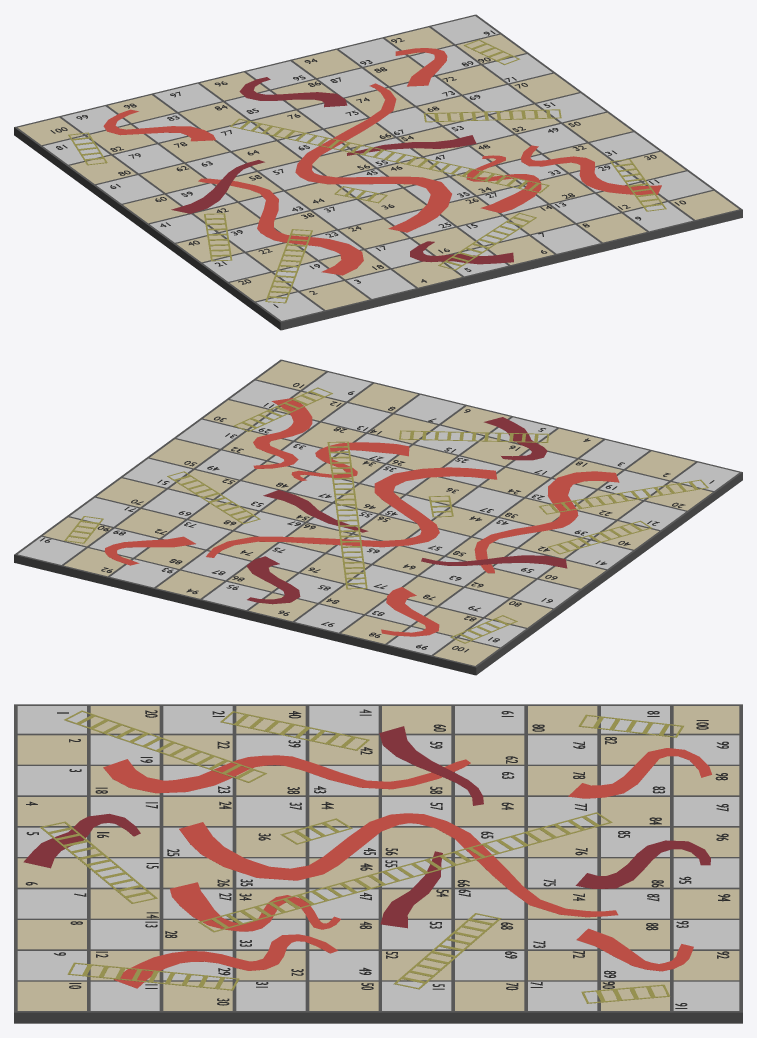
The model's file is Chutes and Ladders.fbx.
3 renders of one model, top to bottom at view 1: azimuth 30°, elevation 25°; view 2: azimuth 150°, elevation 25°; view 3: azimuth 270°, elevation 25°, orthographic. The views are drawn at different scales.
Parts seen in each view (by area): view 1: Chutes and Ladders; view 2: Chutes and Ladders; view 3: Chutes and Ladders.
Part boxes in pixels (x1,y1,x2,y2): Chutes and Ladders: (14,14,742,330); Chutes and Ladders: (14,359,742,675); Chutes and Ladders: (14,704,742,1023).
Size of the model in its own units: 408 by 7.02 by 408.
